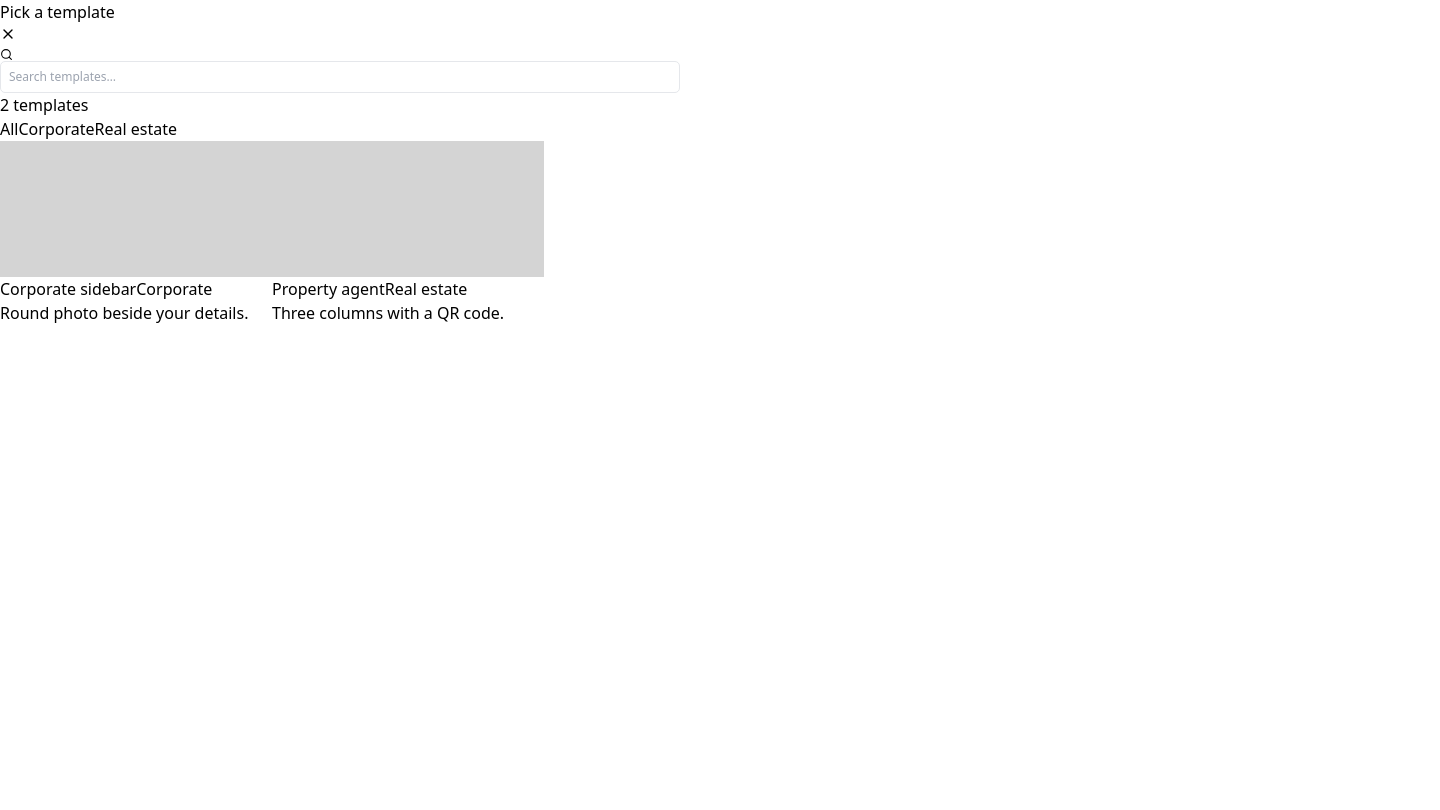
template picker polish › shows translated category chips, a count and searches categories
Expected: the text "2 templates" is shown, [0,94,88,116]
Expected: the button "Corporate" is shown, [18,117,94,141]
Type "real estate" into the search field labelled "Search templates" at [340, 77], box [0,61,680,93]
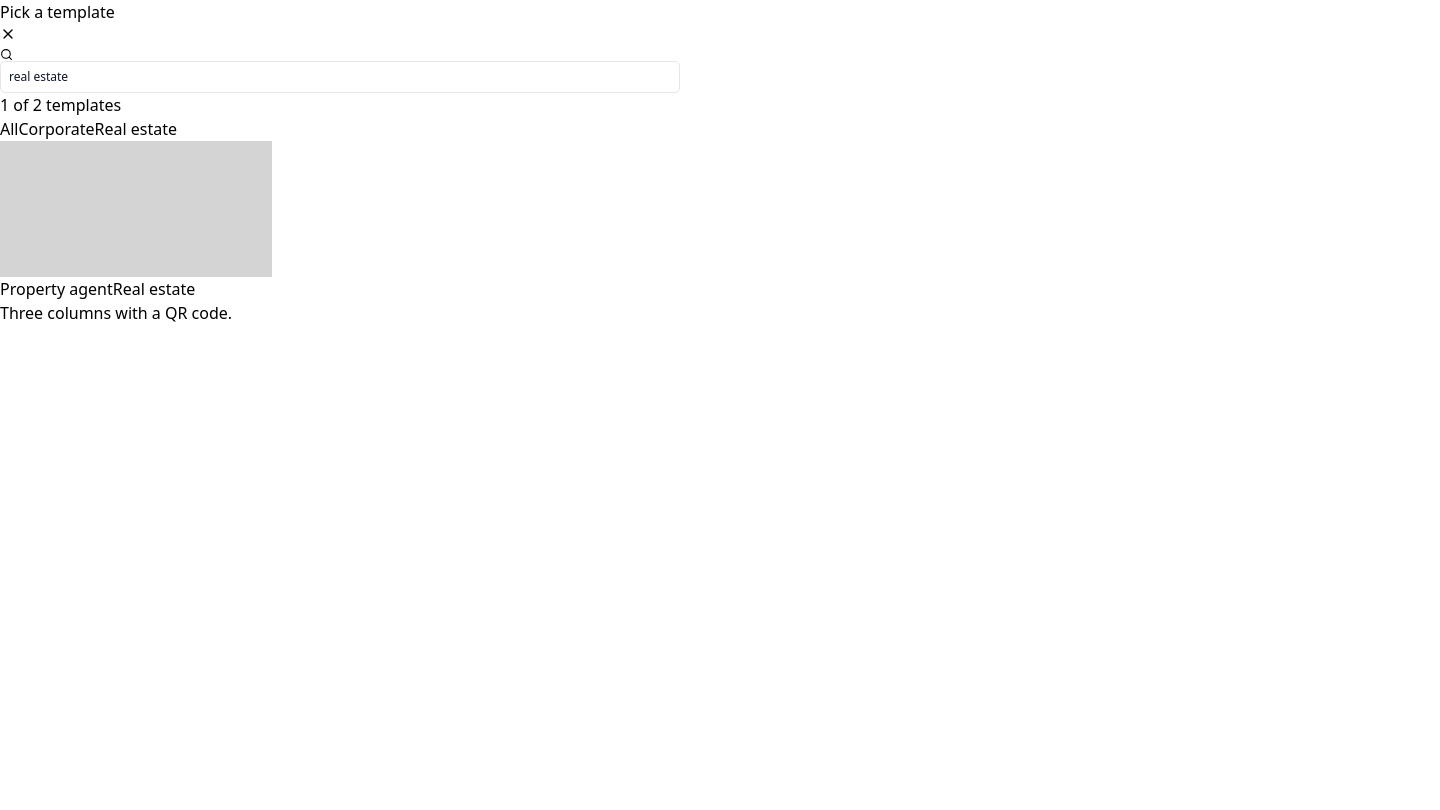
Expected: the text "Property agent" is shown, [0,278,113,300]
Now the text "1 of 2 templates" is shown, box [0,94,121,116]
Now the button "Corporate sidebar" is gone
